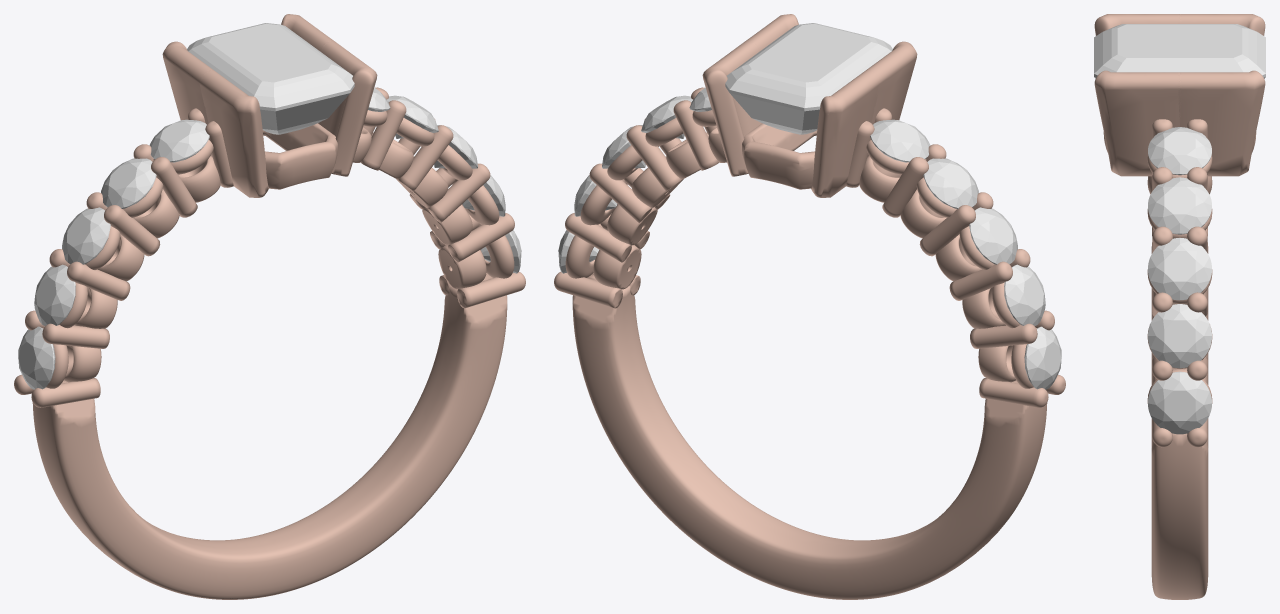
The model's file is diamond-emerald-rosegold-halfmoonbezel-straightband-11stone.glb.
The picture shows the model from 3 angles, left to right: view 1: azimuth 30°, elevation 25°; view 2: azimuth 150°, elevation 25°; view 3: azimuth 270°, elevation 25°; orthographic projection.
Visible parts, largest first — view 1: metal.003, stone.002, side.024, side.025, side.023, side.026, side.002, side.028; view 2: metal.003, stone.002, side.024, side.025, side.023, side.026, side.002, side.028; view 3: metal.003, stone.002, side.030, side.031, side.029, side.028, side.027.
Part boxes in pixels (x1=…): metal.003: x1=14, y1=14, x2=525, y2=599; stone.002: x1=187, y1=23, x2=354, y2=134; side.024: x1=62, y1=207, x2=110, y2=264; side.025: x1=101, y1=158, x2=156, y2=208; side.023: x1=34, y1=264, x2=75, y2=325; side.026: x1=149, y1=119, x2=209, y2=162; side.002: x1=18, y1=326, x2=55, y2=389; side.028: x1=387, y1=95, x2=438, y2=138; metal.003: x1=554, y1=14, x2=1065, y2=599; stone.002: x1=725, y1=23, x2=892, y2=134; side.024: x1=969, y1=207, x2=1017, y2=264; side.025: x1=923, y1=158, x2=978, y2=208; side.023: x1=1004, y1=264, x2=1045, y2=325; side.026: x1=870, y1=119, x2=930, y2=162; side.002: x1=1024, y1=326, x2=1061, y2=389; side.028: x1=641, y1=95, x2=692, y2=138; metal.003: x1=1094, y1=14, x2=1265, y2=599; stone.002: x1=1094, y1=24, x2=1265, y2=78; side.030: x1=1148, y1=304, x2=1211, y2=368; side.031: x1=1148, y1=371, x2=1211, y2=434; side.029: x1=1148, y1=238, x2=1211, y2=300; side.028: x1=1148, y1=177, x2=1211, y2=234; side.027: x1=1148, y1=127, x2=1211, y2=175.
Bounding box in the file's own units: 22.03 × 22.95 × 6.69.
